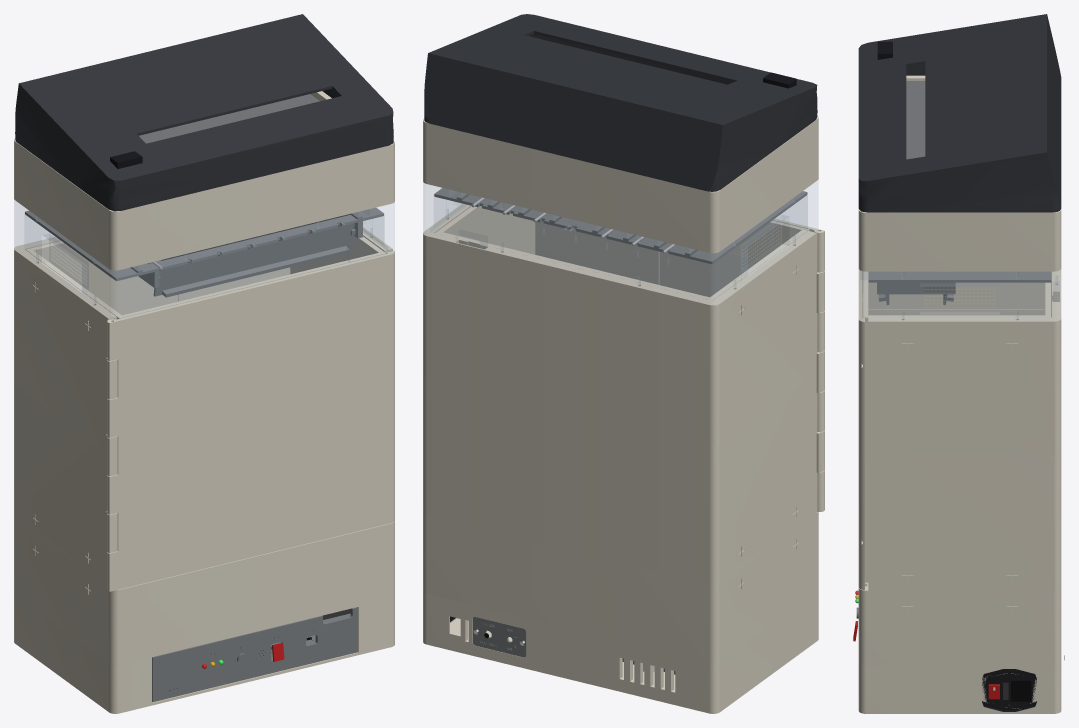
3 views of the same model, side by side, from view 1: azimuth 30°, elevation 25°; view 2: azimuth 150°, elevation 25°; view 3: azimuth 270°, elevation 25° (orthographic). The views are drawn at different scales.
Parts seen in each view (by area): view 1: s2_door, head, s1_box, s2_outer, s4, s3, s0_drawer, s0_fixed, s2_bin; view 2: s2_outer, head, s1_box, s4, s3, s0_fixed, s2_bin, s2_door; view 3: s2_outer, head, s1_box, s4, s0_fixed, s3, s2_bin, s2_door.
Part boxes in pixels (<box>): s2_door: <box>107,250,394,591</box>; head: <box>15,14,393,211</box>; s1_box: <box>14,519,394,665</box>; s2_outer: <box>14,227,392,586</box>; s4: <box>14,91,394,270</box>; s3: <box>14,200,394,319</box>; s0_drawer: <box>152,607,357,702</box>; s0_fixed: <box>14,594,394,713</box>; s2_bin: <box>26,235,385,319</box>; s2_outer: <box>423,203,824,585</box>; head: <box>424,14,817,191</box>; s1_box: <box>423,512,818,663</box>; s4: <box>423,116,818,253</box>; s3: <box>423,181,817,304</box>; s0_fixed: <box>423,590,818,713</box>; s2_bin: <box>435,206,809,300</box>; s2_door: <box>535,218,824,511</box>; s2_outer: <box>862,269,1061,590</box>; head: <box>858,14,1061,212</box>; s1_box: <box>858,582,1061,665</box>; s4: <box>858,75,1061,271</box>; s0_fixed: <box>858,655,1064,713</box>; s3: <box>859,270,1060,320</box>; s2_bin: <box>862,271,1050,582</box>; s2_door: <box>858,269,867,589</box>.
Bounding box in the file's own units: 0.3562 × 0.651 × 0.2217.
